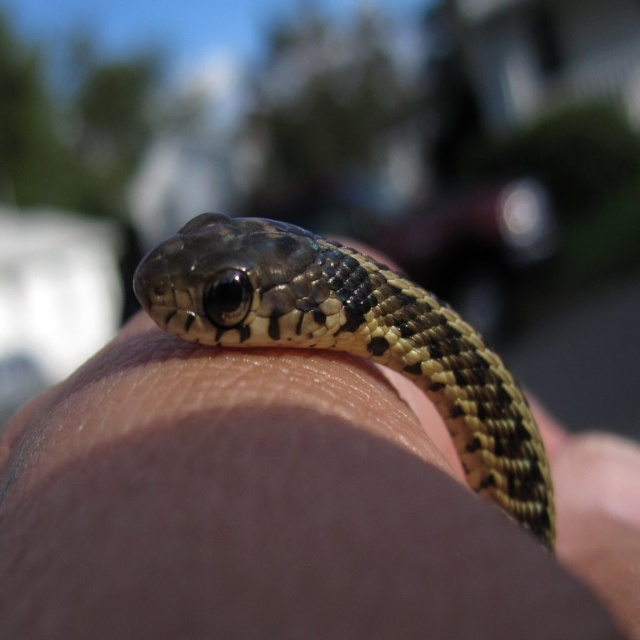Snake: (109, 202, 561, 570)
